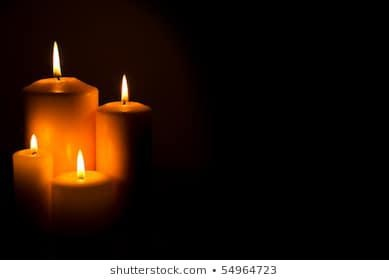fire: (50, 39, 64, 78), (74, 145, 87, 177), (117, 71, 129, 103), (28, 130, 39, 154)
